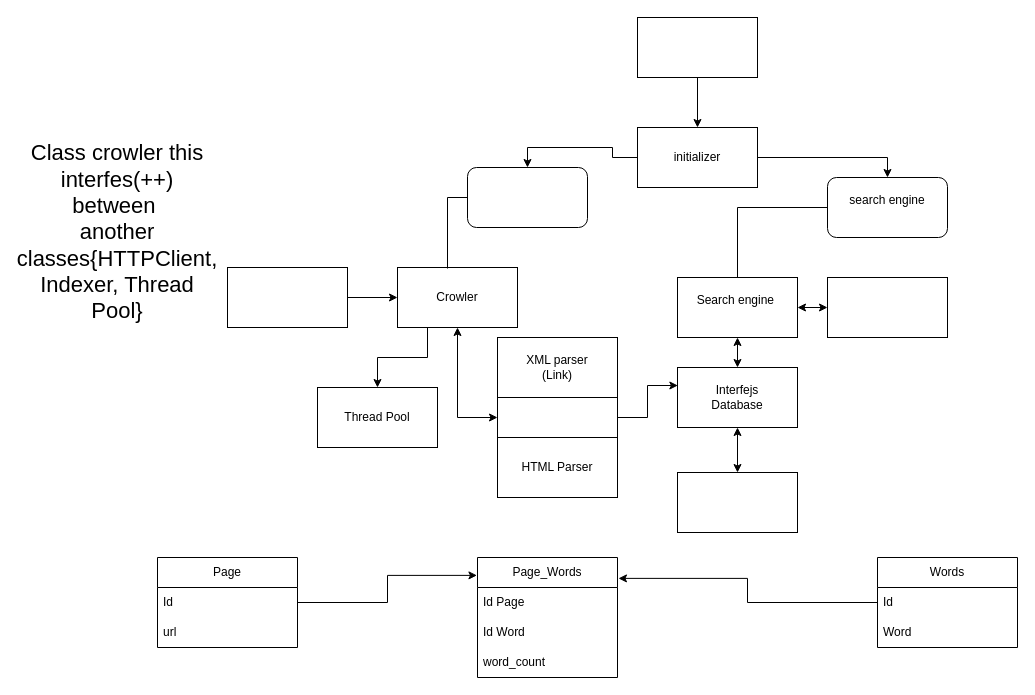
Some shapes in this 1035 by 695 pixel diagram are drawn without their labels. Here are the shapes that lost their labels. From the top down, the centre of each, then its label:
pixel 697 47: INI Parser
pixel 527 197: "Crowler"
pixel 287 297: HTTP client
pixel 887 307: HTTP Server
pixel 557 417: Indexer
pixel 737 502: Database
